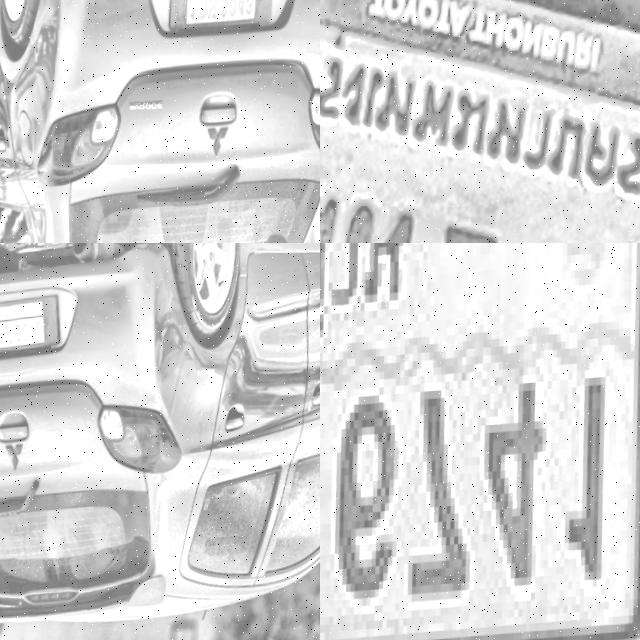license-plate: (320, 243, 640, 640), (320, 0, 640, 243), (0, 293, 64, 357), (169, 0, 279, 34)
